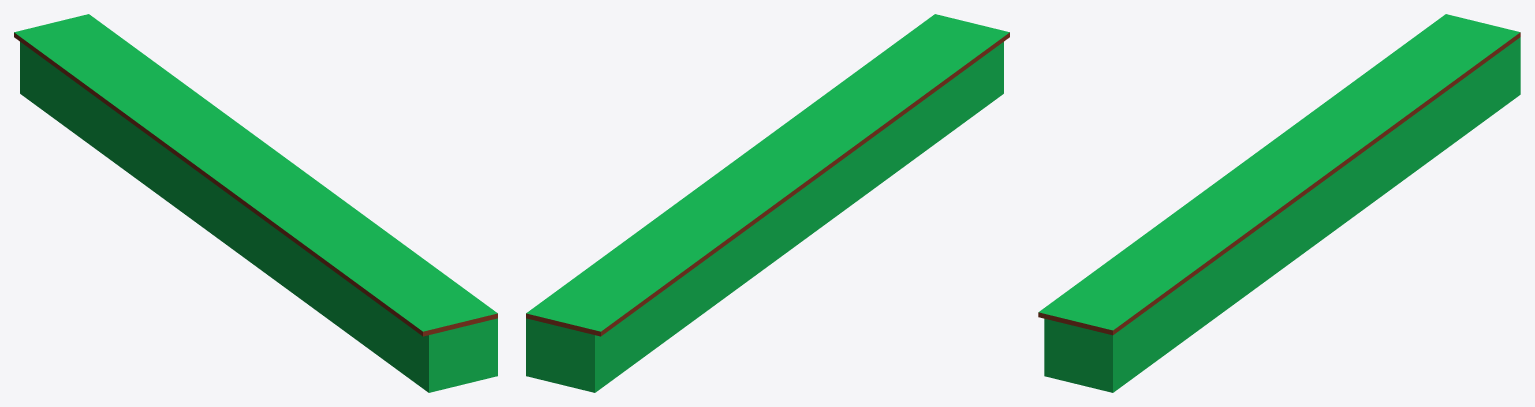
Rendered from kiosko.fbx.
3 renders of one model, left to right at view 1: azimuth 30°, elevation 25°; view 2: azimuth 150°, elevation 25°; view 3: azimuth 330°, elevation 25°, orthographic.
Visible parts, largest first — view 1: KioskoBase; view 2: KioskoBase; view 3: KioskoBase.
Boxes of the visible parts, box(x1,y1,x2,y2) form: KioskoBase: box(14, 14, 497, 392); KioskoBase: box(526, 14, 1009, 392); KioskoBase: box(1038, 14, 1520, 392).
Size of the model in its own units: 844 by 675 by 7977.
